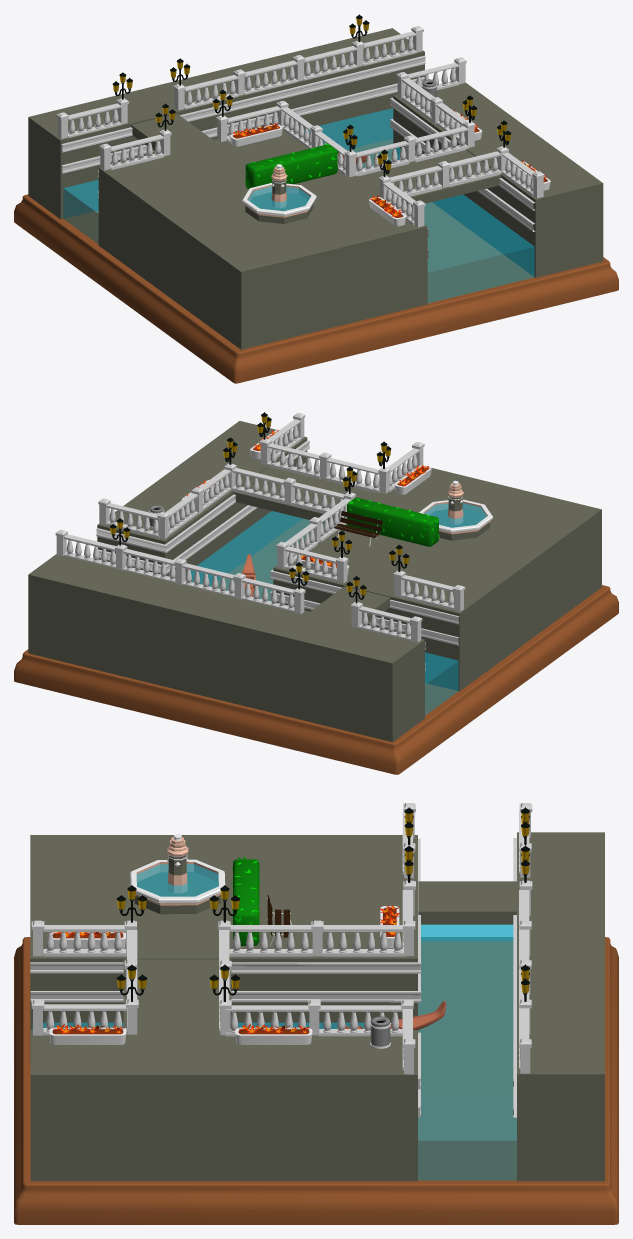
The model's file is level4_4.FBX.
The picture shows the model from 3 angles, top to bottom: view 1: azimuth 30°, elevation 25°; view 2: azimuth 150°, elevation 25°; view 3: azimuth 270°, elevation 25°; orthographic projection. The views are drawn at different scales.
Visible parts, largest first — view 1: Container001, Box074, Box073, Box075, Cylinder089, Box076, Box128, Box077, Box123; view 2: Container001, Box073, Box074, Box075, Box128, Box076, Cylinder089, Box077; view 3: Container001, Box075, Box074, Box073, Box076, Cylinder089, Box077, Box128, Box114, Box115.
Boxes of the visible parts, box(x1,y1,x2,y2) form: Container001: box(14, 26, 618, 383); Box074: box(98, 130, 427, 349); Box073: box(28, 28, 424, 219); Box075: box(393, 82, 603, 277); Cylinder089: box(242, 164, 316, 223); Box076: box(359, 150, 501, 206); Box128: box(245, 144, 337, 189); Box077: box(131, 114, 212, 151); Box123: box(230, 124, 282, 146); Container001: box(14, 412, 618, 774); Box073: box(28, 554, 424, 741); Box074: box(273, 468, 601, 691); Box075: box(97, 421, 307, 586); Box128: box(347, 497, 438, 546); Box076: box(233, 467, 375, 523); Cylinder089: box(419, 480, 492, 540); Box077: box(310, 586, 390, 622); Container001: box(14, 803, 618, 1224); Box075: box(30, 1030, 417, 1181); Box074: box(30, 835, 417, 1064); Box073: box(517, 832, 604, 1181); Box076: box(123, 959, 231, 1029); Cylinder089: box(130, 834, 225, 914); Box077: box(418, 881, 516, 924); Box128: box(233, 859, 259, 945); Box114: box(235, 1027, 312, 1044); Box115: box(49, 1027, 126, 1044).
Size of the model in its own units: 336 by 130 by 336.
